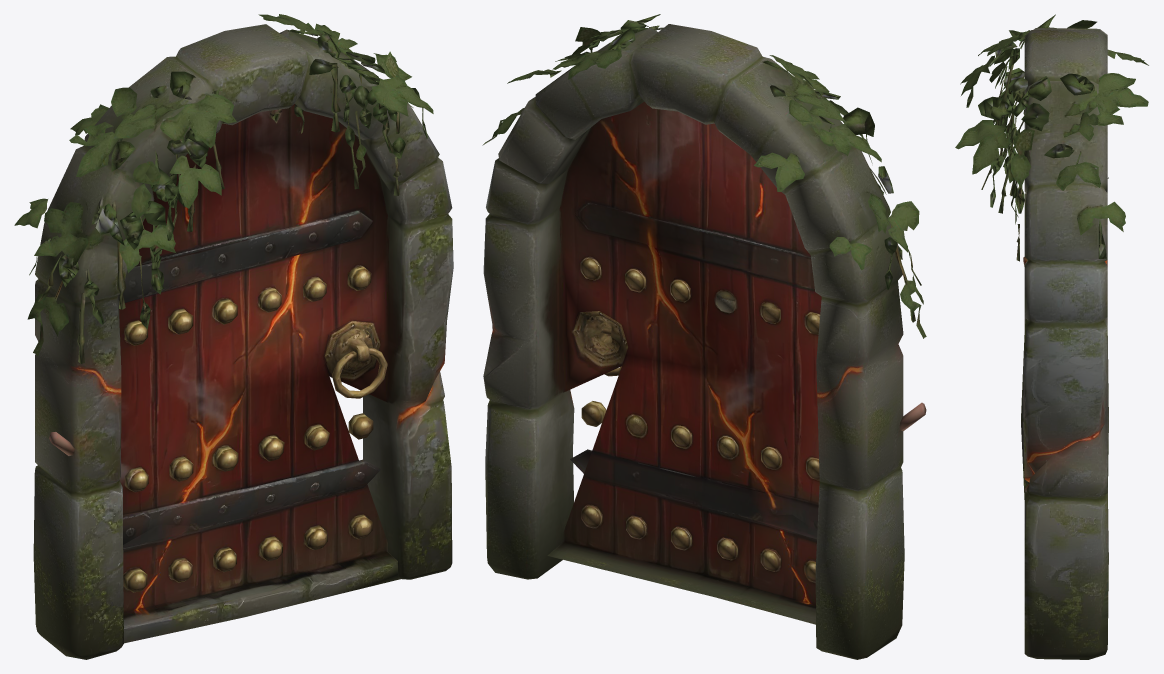
Rendered from selected.glb.
3 renders of one model, left to right at view 1: azimuth 30°, elevation 25°; view 2: azimuth 150°, elevation 25°; view 3: azimuth 270°, elevation 25°, orthographic. The views are drawn at different scales.
Visible parts, largest first — view 1: tripo_node_59d4b755-668d-481c-b054-1fbf84a2fe0d; view 2: tripo_node_59d4b755-668d-481c-b054-1fbf84a2fe0d; view 3: tripo_node_59d4b755-668d-481c-b054-1fbf84a2fe0d.
Part boxes in pixels (x1,y1,x2,y2): tripo_node_59d4b755-668d-481c-b054-1fbf84a2fe0d: (14, 14, 453, 659); tripo_node_59d4b755-668d-481c-b054-1fbf84a2fe0d: (482, 14, 926, 659); tripo_node_59d4b755-668d-481c-b054-1fbf84a2fe0d: (955, 14, 1148, 659).
Bounding box in the file's own units: 0.7715 × 0.998 × 0.334.
1 material, 1 textured.
